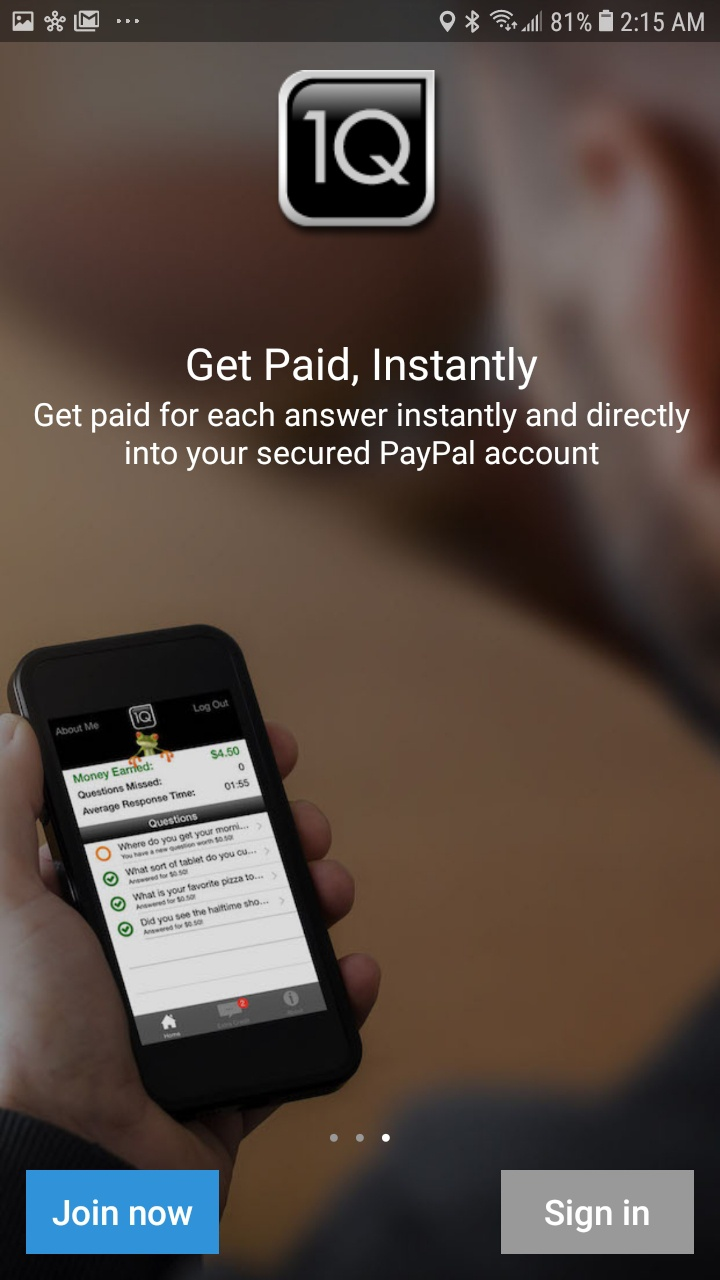BackgroundImage: (1, 43, 720, 1280)
Image: (277, 70, 436, 228)
PageIndicator: (329, 1133, 391, 1143)
Text: (35, 402, 691, 473), (187, 347, 538, 391)
TextButton: (500, 1169, 694, 1254), (27, 1170, 220, 1255)
UpperTaskBar: (1, 1, 720, 43)
